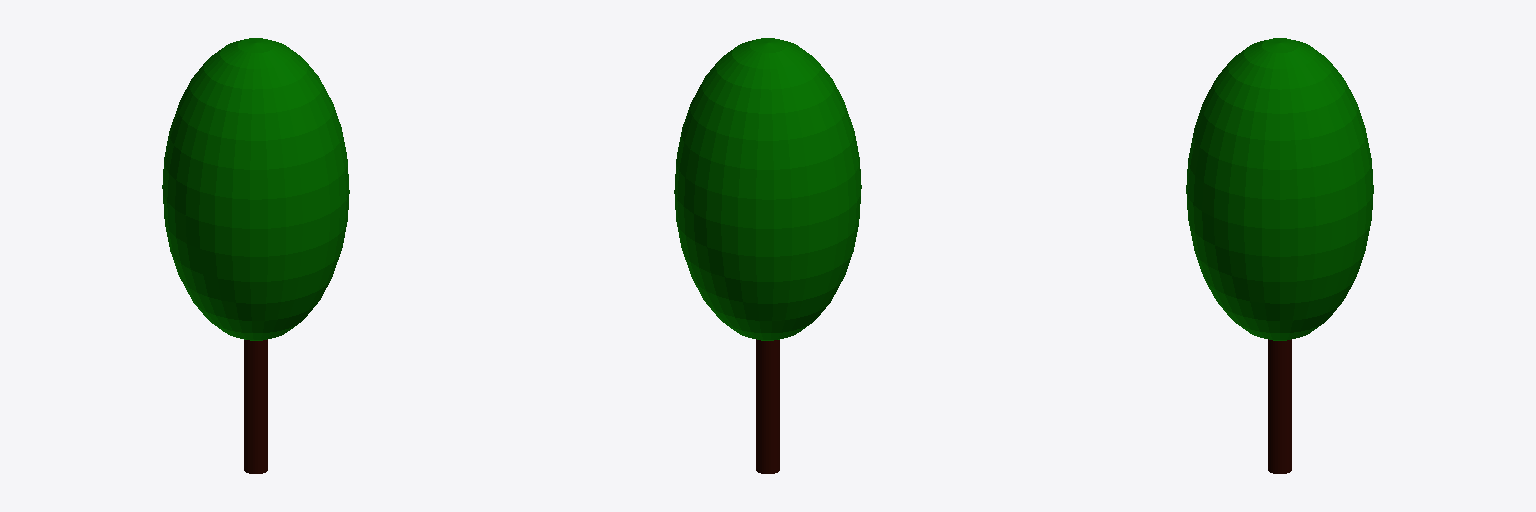
The model's file is tree.obj.
3 renders of one model, left to right at view 1: azimuth 30°, elevation 25°; view 2: azimuth 150°, elevation 25°; view 3: azimuth 270°, elevation 25°, orthographic.
Parts seen in each view (by area): view 1: Sphere, Cylinder; view 2: Sphere, Cylinder; view 3: Sphere, Cylinder.
Boxes of the visible parts, x1=… form: Sphere: x1=162, y1=38, x2=349, y2=340; Cylinder: x1=244, y1=339, x2=267, y2=473; Sphere: x1=674, y1=38, x2=861, y2=340; Cylinder: x1=756, y1=339, x2=779, y2=473; Sphere: x1=1186, y1=38, x2=1373, y2=340; Cylinder: x1=1268, y1=339, x2=1291, y2=473.
Size of the model in its own units: 7.52 by 18.85 by 7.52.